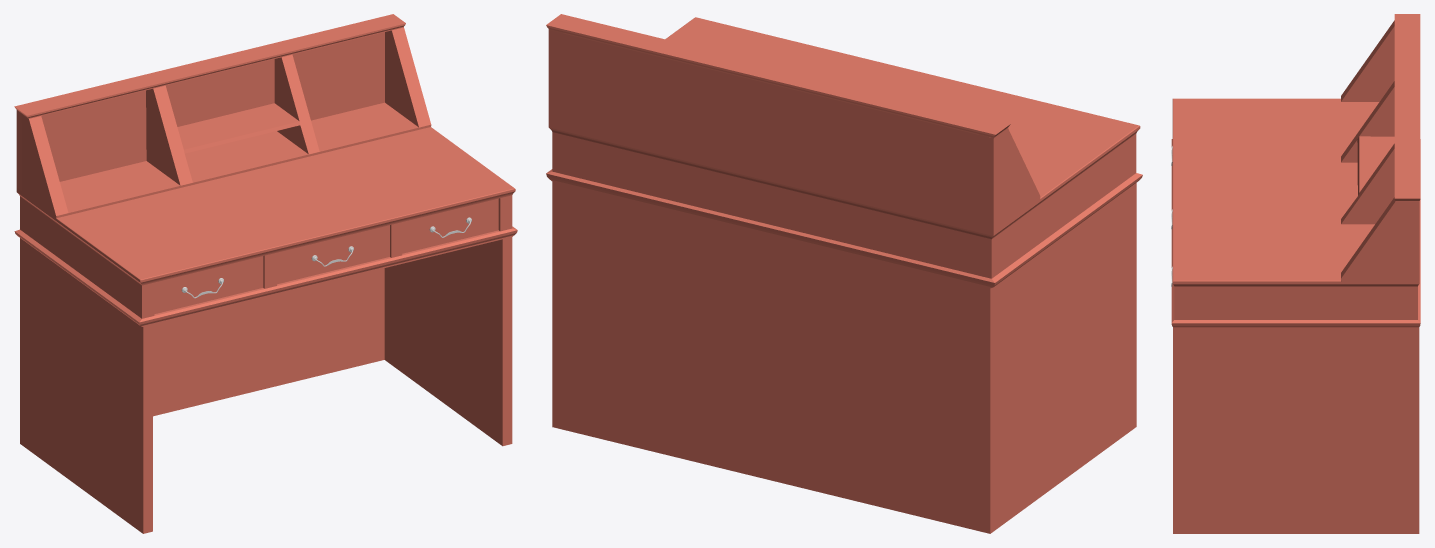
Rendered from Desk_LP_NV.fbx.
3 views of the same model, side by side, from view 1: azimuth 30°, elevation 25°; view 2: azimuth 150°, elevation 25°; view 3: azimuth 270°, elevation 25° (orthographic). The views are drawn at different scales.
Parts seen in each view (by area): view 1: Desk; view 2: Desk; view 3: Desk.
Part boxes in pixels (left/top/right/bottom): Desk: left=14, top=14, right=517, bottom=533; Desk: left=546, top=14, right=1142, bottom=533; Desk: left=1171, top=14, right=1420, bottom=533.
Bounding box in the file's own units: 120 × 102 × 68.22.
